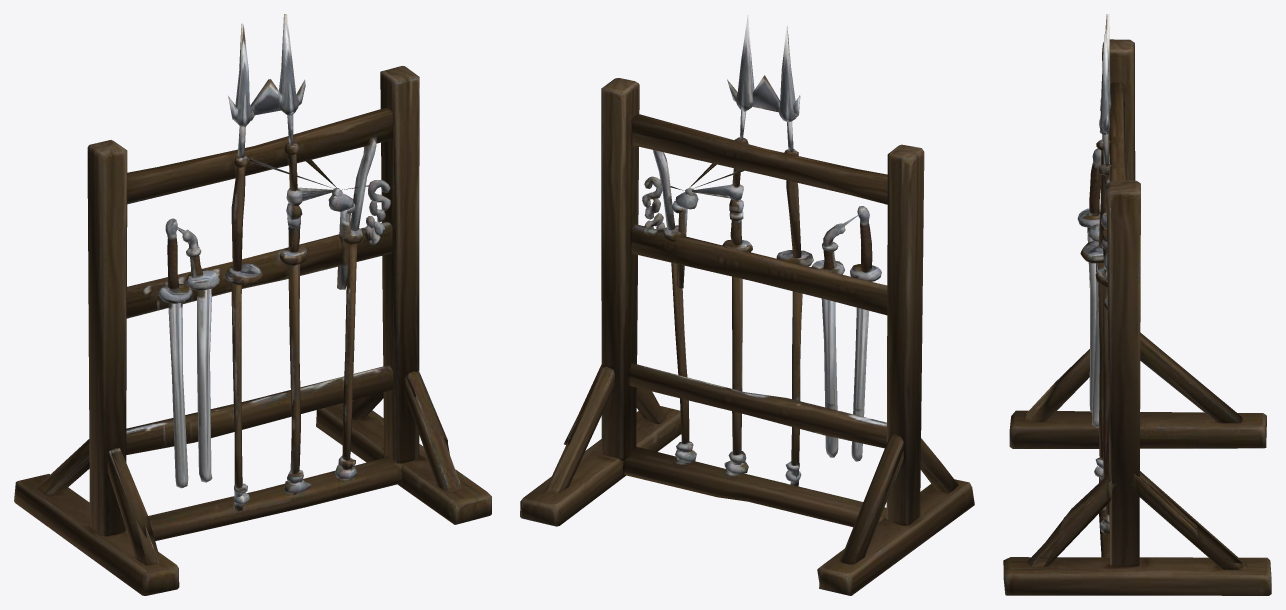
The model's file is sd_rack_armas.glb.
The picture shows the model from 3 angles, left to right: view 1: azimuth 30°, elevation 25°; view 2: azimuth 150°, elevation 25°; view 3: azimuth 270°, elevation 25°; orthographic projection. The views are drawn at different scales.
Visible parts, largest first — view 1: Mesh_0.004; view 2: Mesh_0.004; view 3: Mesh_0.004.
Boxes of the visible parts, <box> form: Mesh_0.004: <box>14,14,491,595</box>; Mesh_0.004: <box>520,15,974,595</box>; Mesh_0.004: <box>1003,14,1271,595</box>.
Bounding box in the file's own units: 0.3535 × 0.4899 × 0.2432.
Materials: 1 (1 with a texture image).
